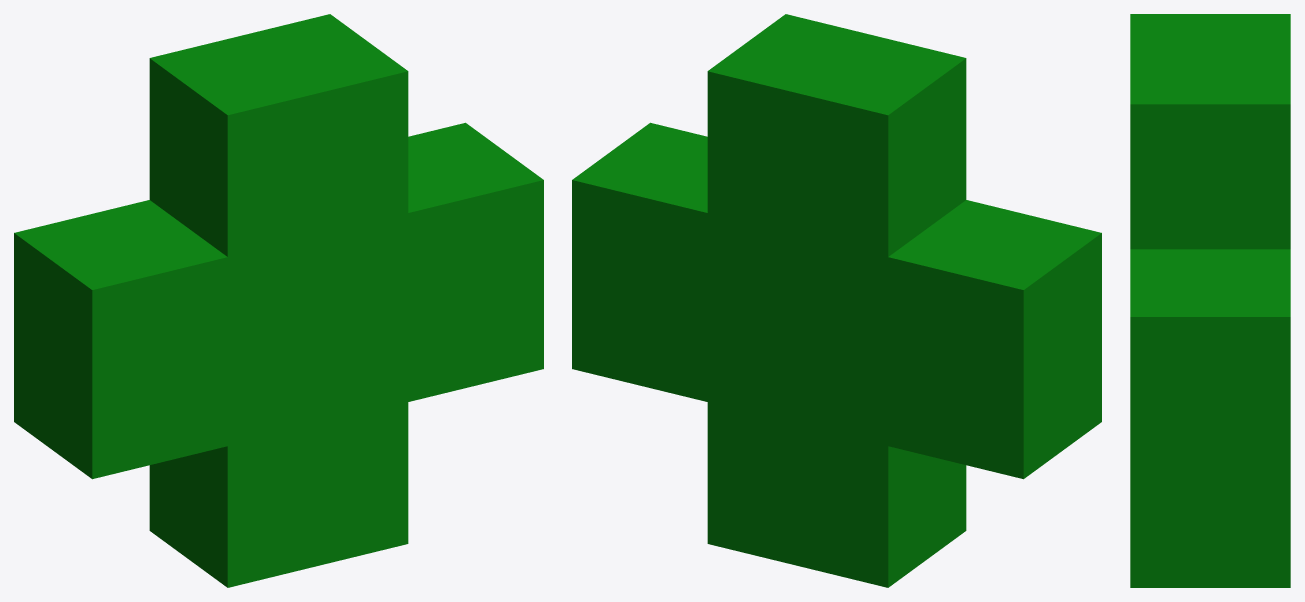
Rendered from Heal.fbx.
3 renders of one model, left to right at view 1: azimuth 30°, elevation 25°; view 2: azimuth 150°, elevation 25°; view 3: azimuth 270°, elevation 25°, orthographic. The views are drawn at different scales.
Parts seen in each view (by area): view 1: Cube; view 2: Cube; view 3: Cube.
Part boxes in pixels (bbox=[...]): Cube: bbox=[14, 14, 543, 587]; Cube: bbox=[572, 14, 1101, 587]; Cube: bbox=[1130, 14, 1290, 587].
Size of the model in its own units: 300 by 1000 by 1000.
